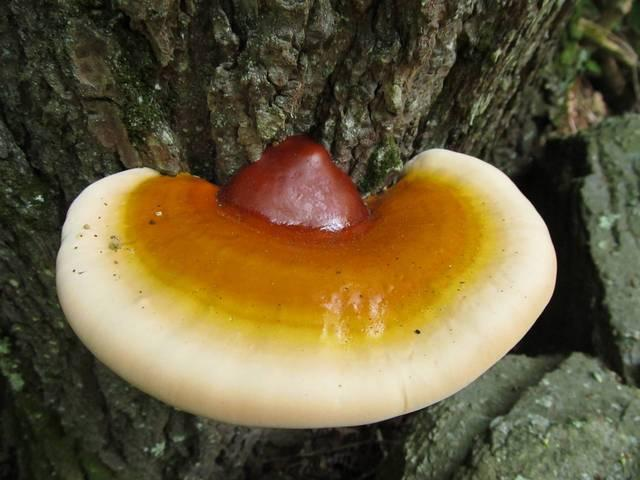Non-edible Mushroom: (53, 133, 559, 430)
